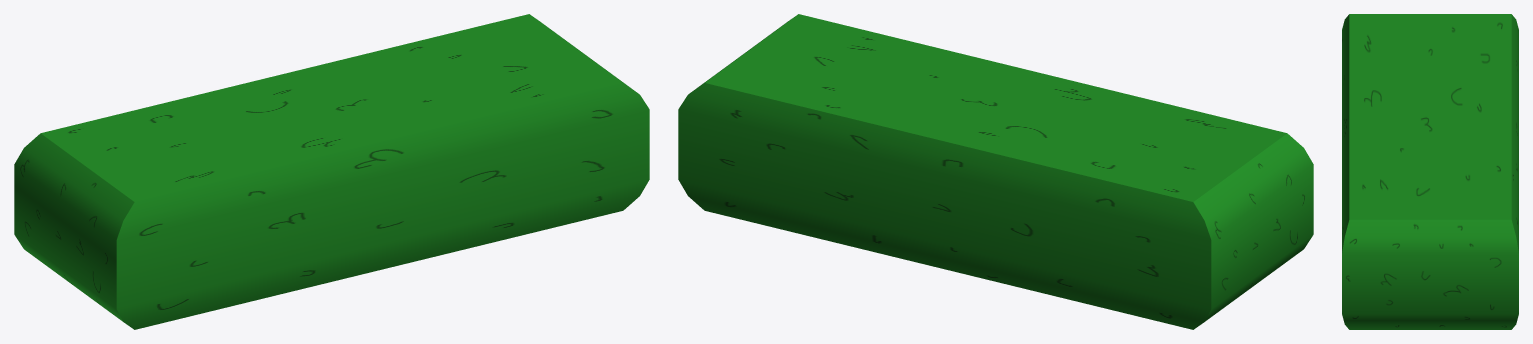
The model's file is Hedge.fbx.
The picture shows the model from 3 angles, left to right: view 1: azimuth 30°, elevation 25°; view 2: azimuth 150°, elevation 25°; view 3: azimuth 270°, elevation 25°; orthographic projection. The views are drawn at different scales.
Parts seen in each view (by area): view 1: Cube; view 2: Cube; view 3: Cube.
Boxes of the visible parts, x1=… form: Cube: x1=14, y1=14, x2=649, y2=329; Cube: x1=678, y1=14, x2=1313, y2=329; Cube: x1=1342, y1=14, x2=1518, y2=329.
Bounding box in the file's own units: 600 × 138 × 200.
1 material, 1 textured.
